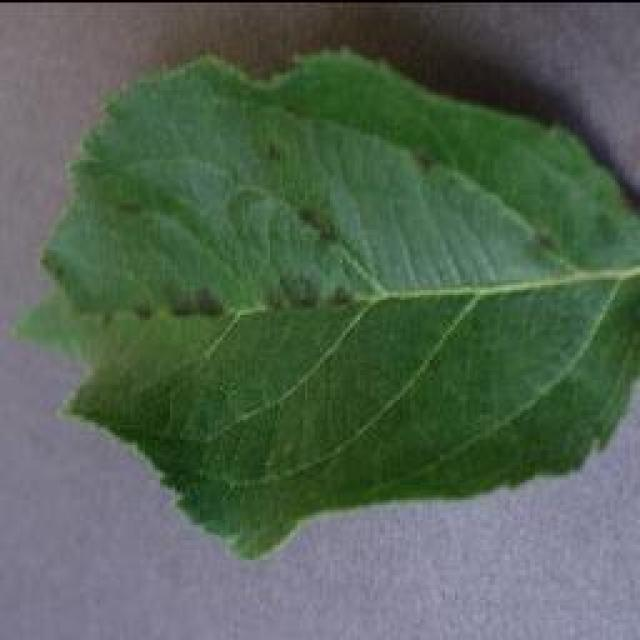apple scab disease: (15, 42, 637, 560)
